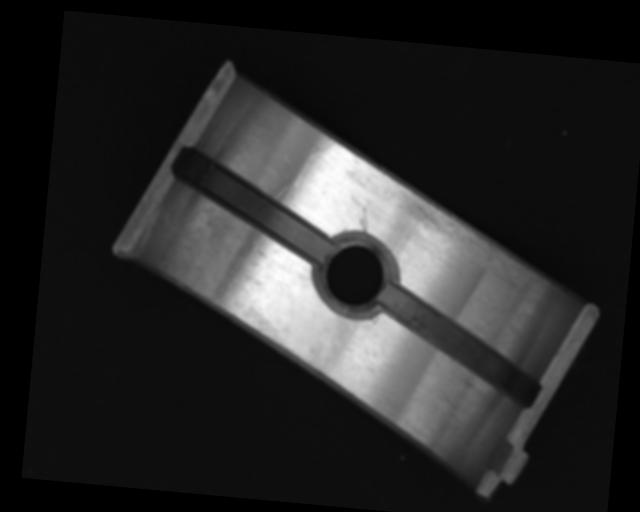gap: (372, 282, 549, 407), (167, 148, 335, 261)
hole: (312, 232, 397, 319)
nick: (293, 135, 335, 191), (358, 206, 370, 231)
scratch: (394, 187, 548, 290)
